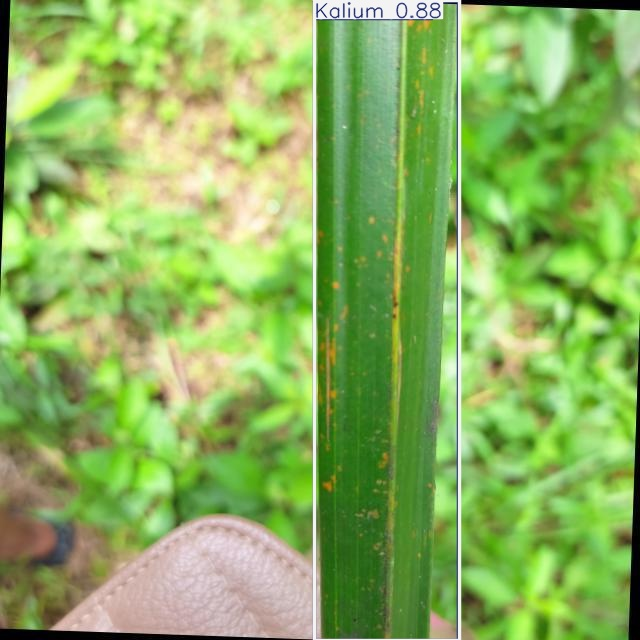Kalium: (314, 0, 459, 640)
nitrogen: (315, 1, 458, 640)
